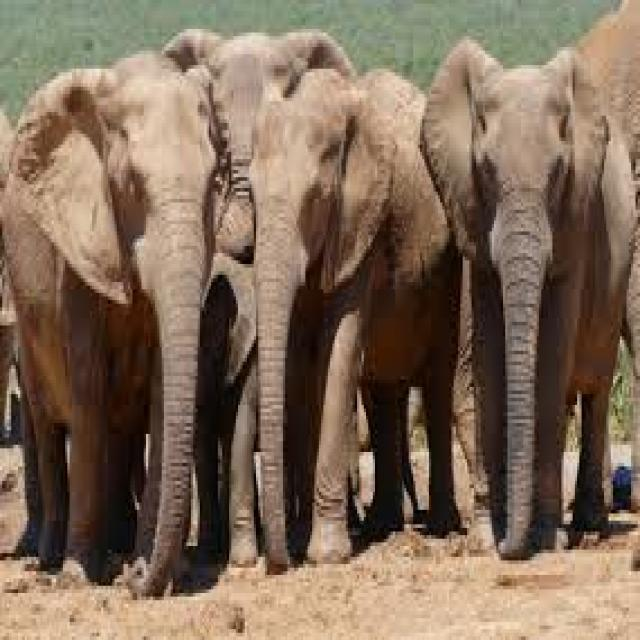Elephant: (1, 51, 235, 605), (417, 0, 637, 560), (247, 61, 465, 572)
